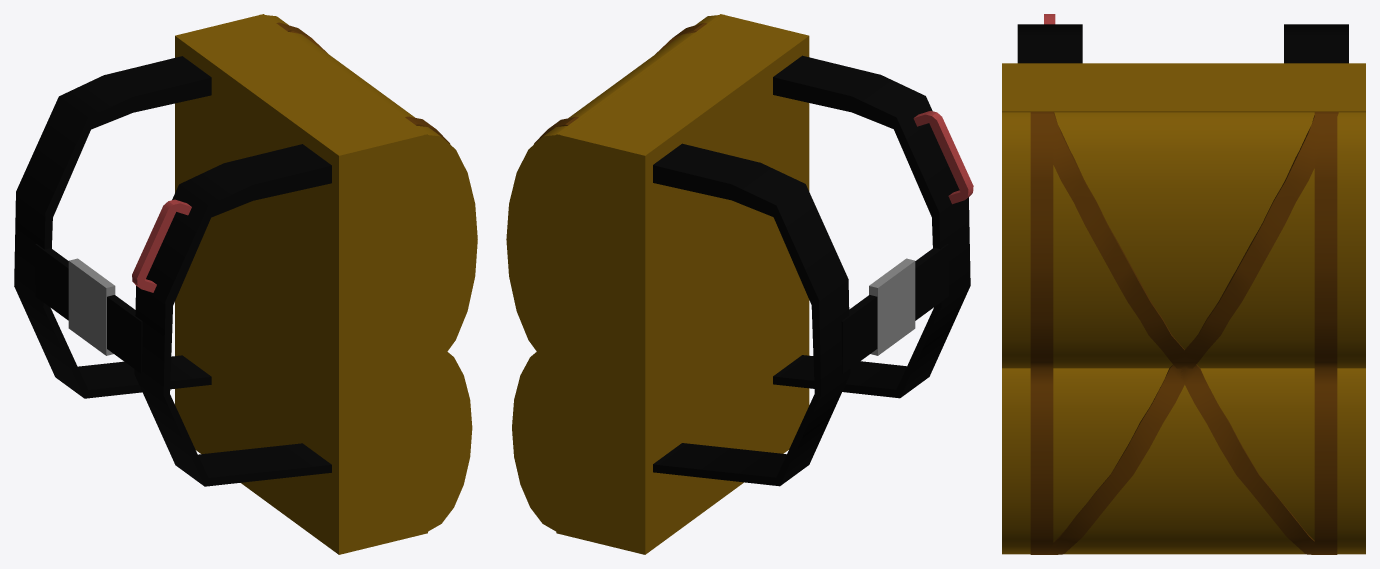
The model's file is Parachute(rugzak).fbx.
The picture shows the model from 3 angles, left to right: view 1: azimuth 30°, elevation 25°; view 2: azimuth 150°, elevation 25°; view 3: azimuth 270°, elevation 25°; orthographic projection. The views are drawn at different scales.
Parts seen in each view (by area): view 1: pCube1, pCube2, pasted__pCube2, pCylinder1, pasted__pCylinder1, pCube3, pCube4, pCube5; view 2: pCube1, pasted__pCube2, pCube2, pCylinder1, pasted__pCylinder1, pCube3, pCube4, pCube5; view 3: pCylinder1, pasted__pCylinder1, pCube1, pCube6, pasted__pCube6, pasted__pasted__pasted__pCube6, pasted__pasted__pCube6, pCube2, pasted__pCube2.
Boxes of the visible parts, x1,y1,x2,y2 form: pCube1: [175, 14, 427, 554]; pCube2: [134, 144, 331, 486]; pasted__pCube2: [14, 56, 211, 398]; pCylinder1: [259, 14, 477, 369]; pasted__pCylinder1: [383, 346, 472, 531]; pCube3: [35, 244, 142, 373]; pCube4: [68, 258, 115, 355]; pCube5: [132, 199, 191, 292]; pCube1: [556, 14, 809, 554]; pasted__pCube2: [653, 143, 850, 486]; pCube2: [773, 55, 970, 398]; pCylinder1: [506, 14, 724, 369]; pasted__pCylinder1: [512, 346, 600, 531]; pCube3: [841, 244, 948, 373]; pCube4: [869, 258, 915, 355]; pCube5: [913, 111, 973, 204]; pCylinder1: [1002, 109, 1365, 368]; pasted__pCylinder1: [1002, 368, 1365, 554]; pCube1: [1002, 63, 1365, 112]; pCube6: [1030, 111, 1053, 554]; pasted__pCube6: [1314, 111, 1337, 554]; pasted__pasted__pasted__pCube6: [1047, 111, 1338, 554]; pasted__pasted__pCube6: [1032, 111, 1314, 554]; pCube2: [1017, 24, 1082, 63]; pasted__pCube2: [1284, 24, 1348, 63].
Size of the model in its own units: 3.66 by 4.29 by 3.2.
